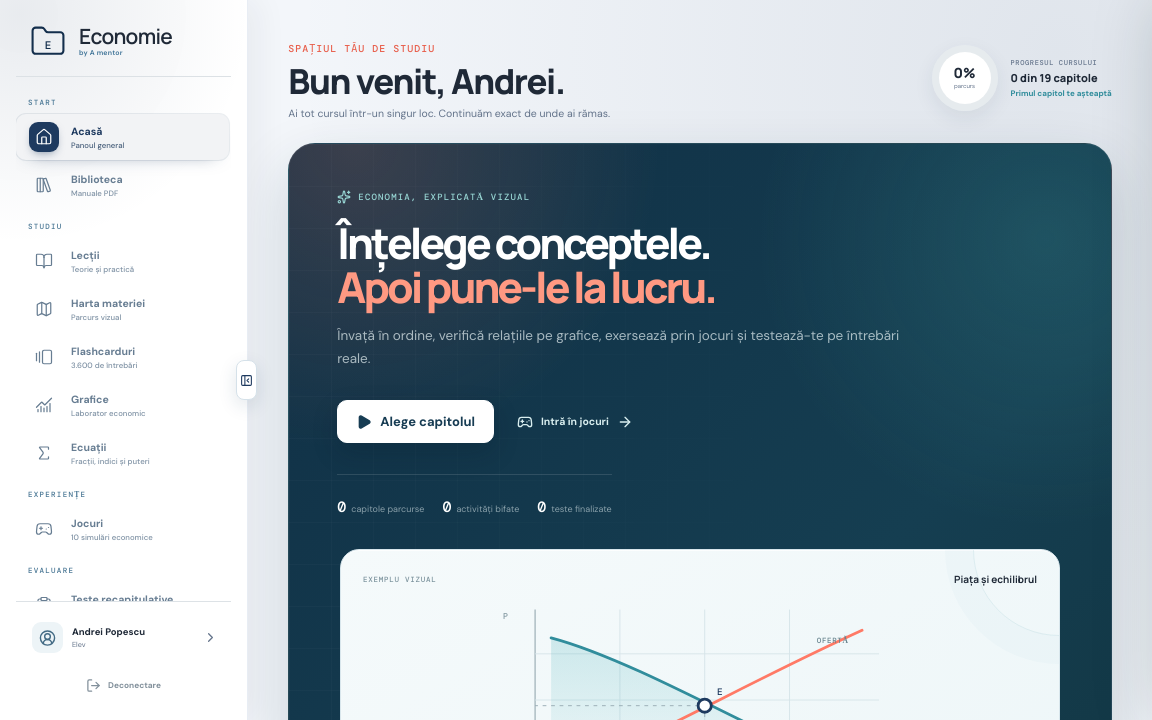
Test: application flow › lists every chapter under Lessons and opens its selected activity
The image size is (1152, 720).
Earlier steps of the test are not shown.
expect the navigation bar named "Navigare principală" is shown: met, box [16, 86, 231, 601]
Step 1. Click the button "Lecții Teorie și practică" → (122,261), box [16, 238, 229, 284]
(page scrolled)
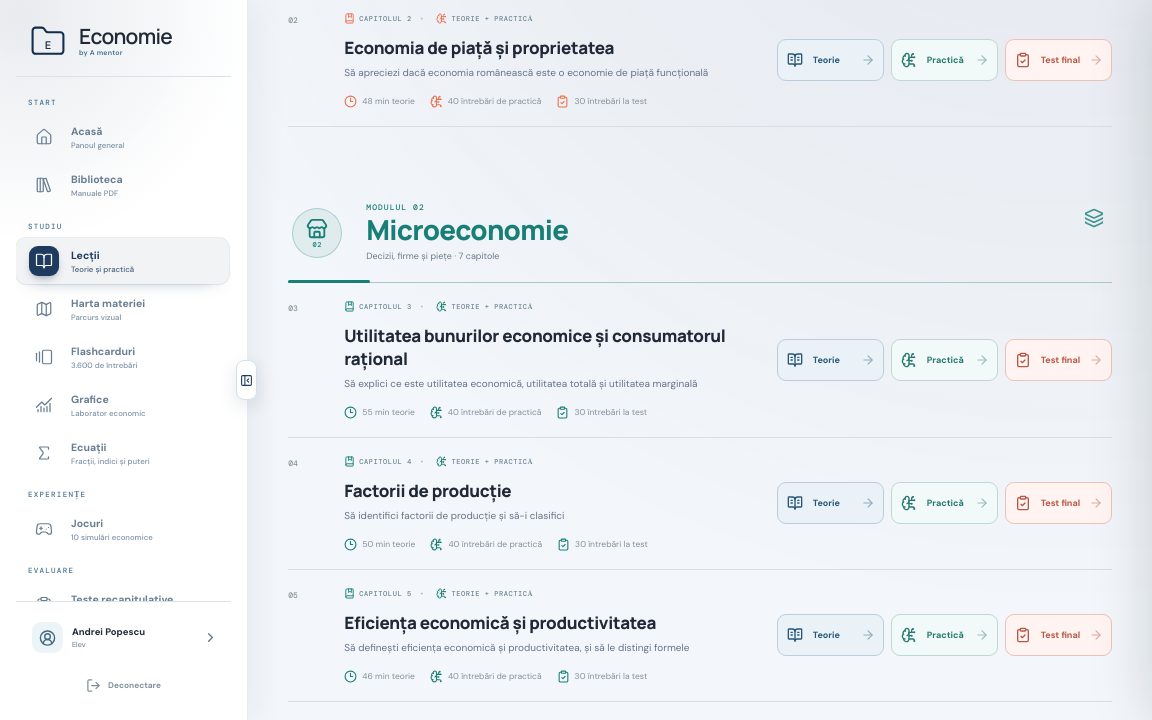
expect the number of elements with class "lesson-list-row" is 19: met
expect the number of elements with class "theory" is 19: met
expect the number of elements with class "final" is 19: met
Step 2. Click the 2nd button "Practică" → (944,360), box [891, 339, 998, 381]
(page scrolled)
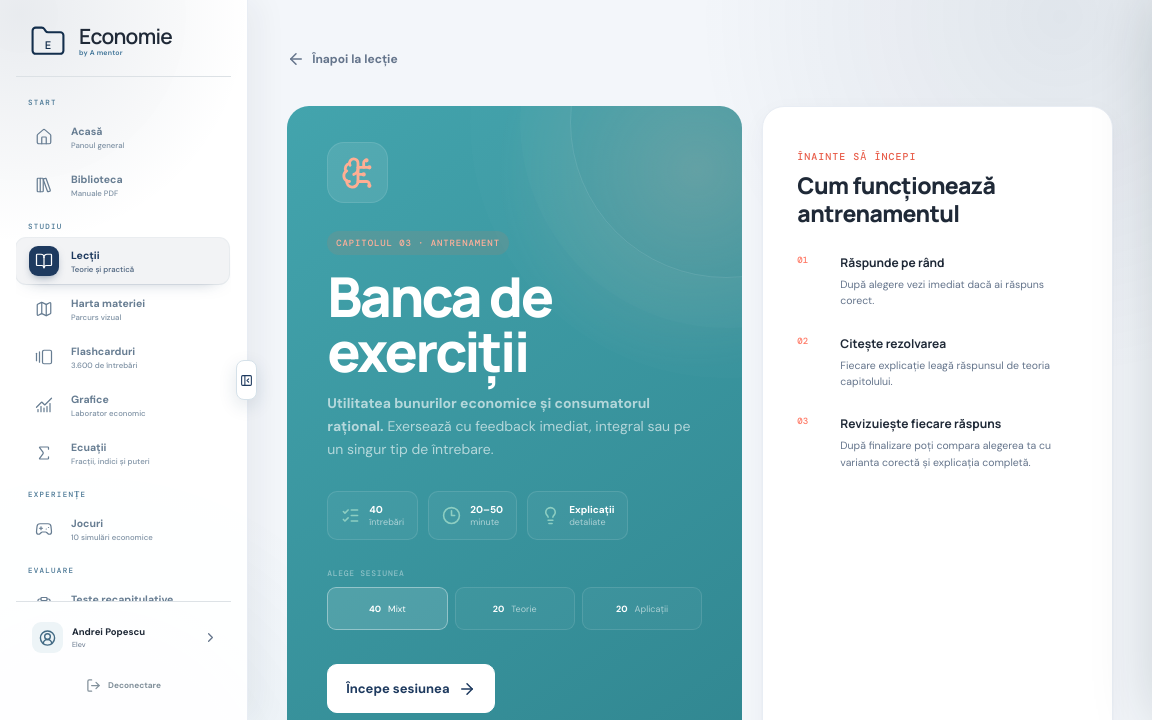
expect the heading "Banca de exerciții" is shown: met, box [327, 258, 552, 389]
